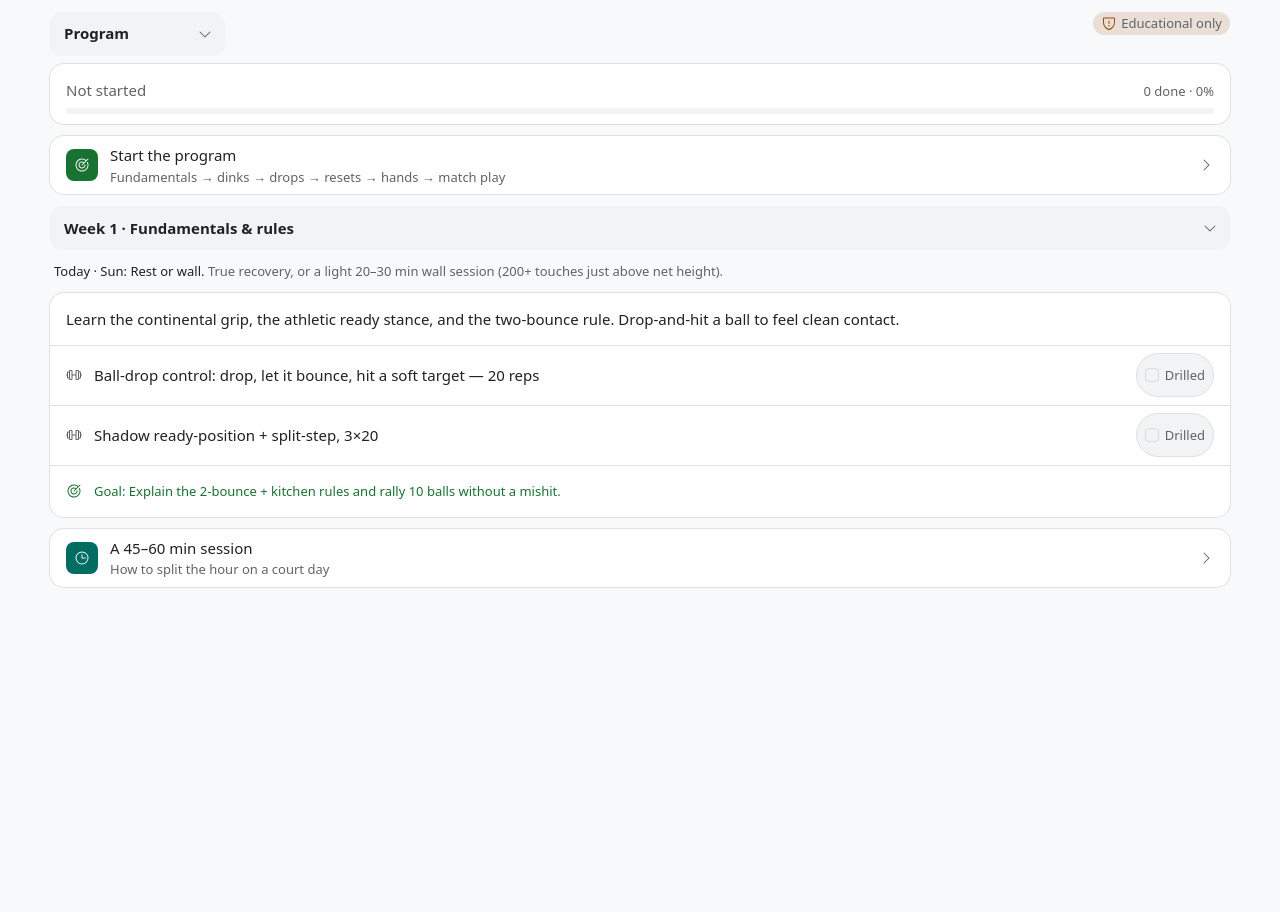
Test: Coaching on a phone › starts the program, marks the week done from the dock, and moves on
Click the button "Start the program". click: click(82, 165)
box: [50,136,1230,194]
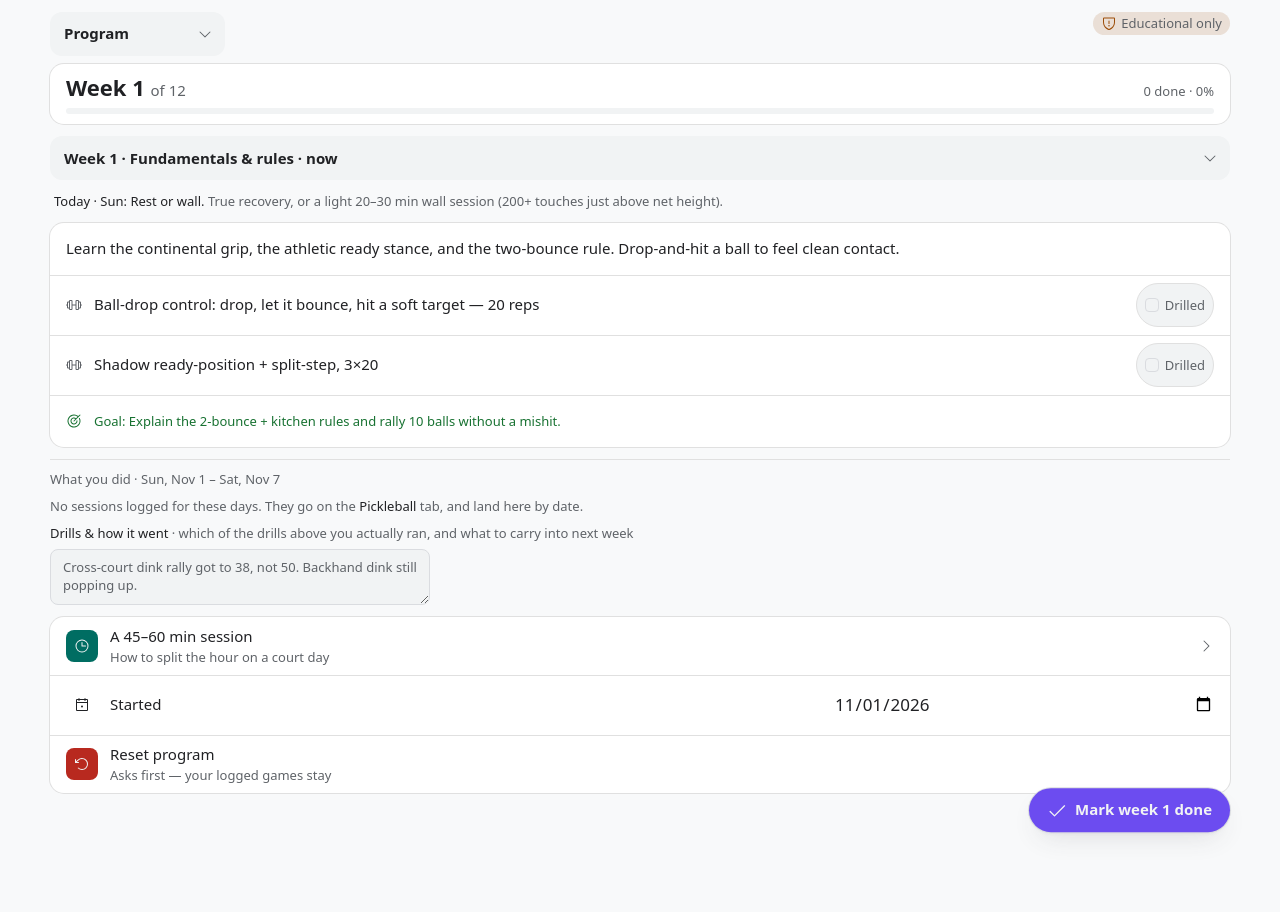
Click the button "Mark week 1 done". click: click(1130, 810)
box: [1029,788,1230,832]
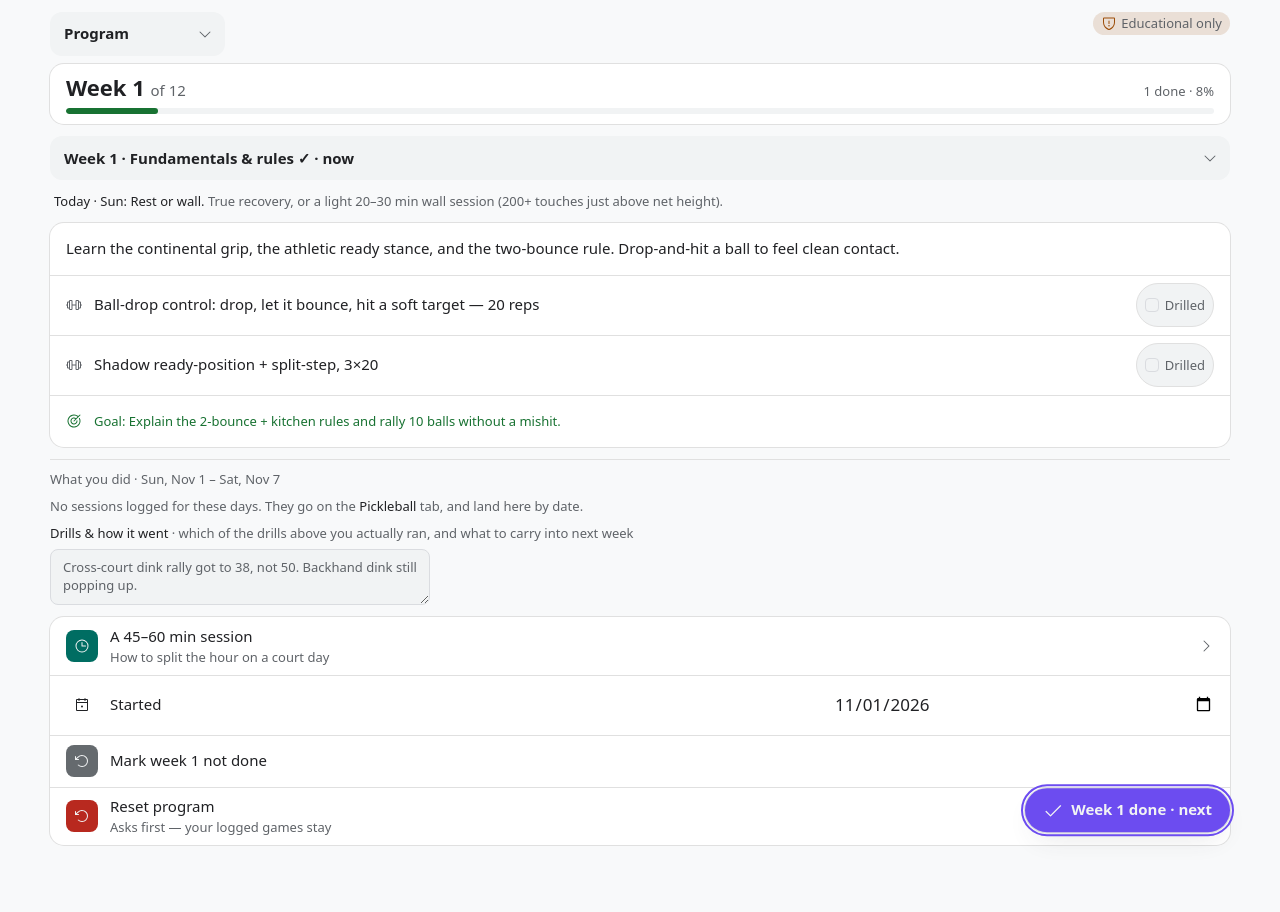
Click the button "Week 1 done · next". click: click(1128, 810)
box: [1025,788,1230,832]
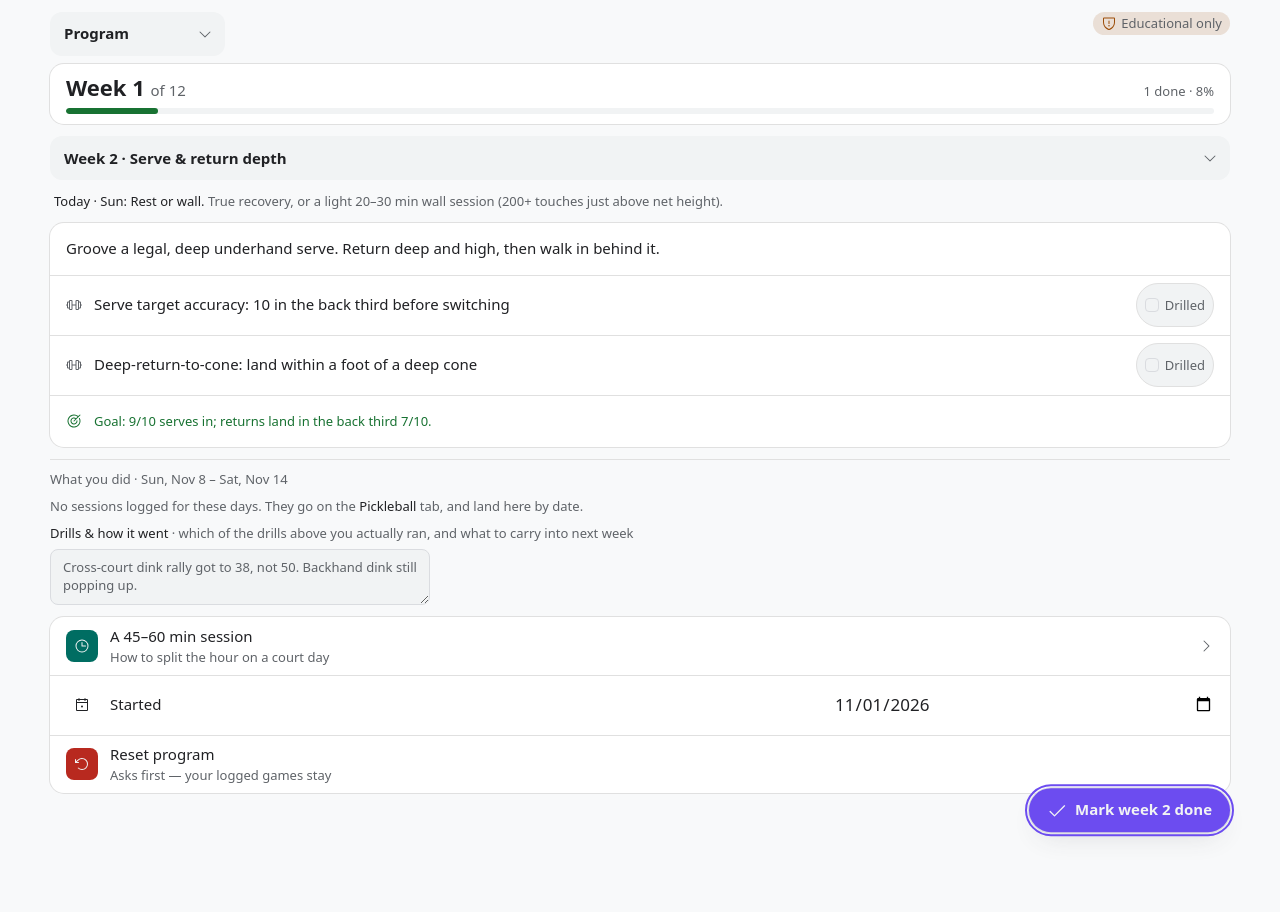
Expected: the dropdown named "Week" below "12" shows "Week 2 · Serve & return depth", [50,136,430,180]
